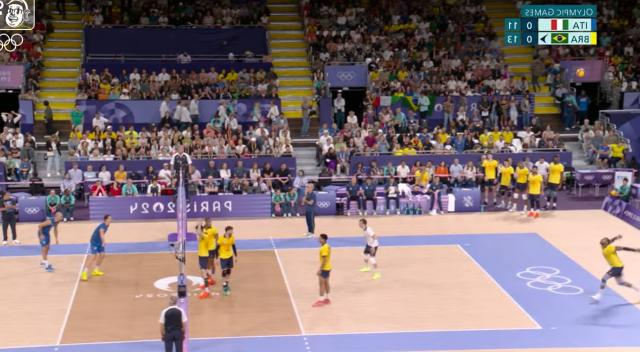Levantador: (220, 224, 234, 294)
Libero: (360, 218, 380, 278)
bola: (576, 68, 586, 78)
